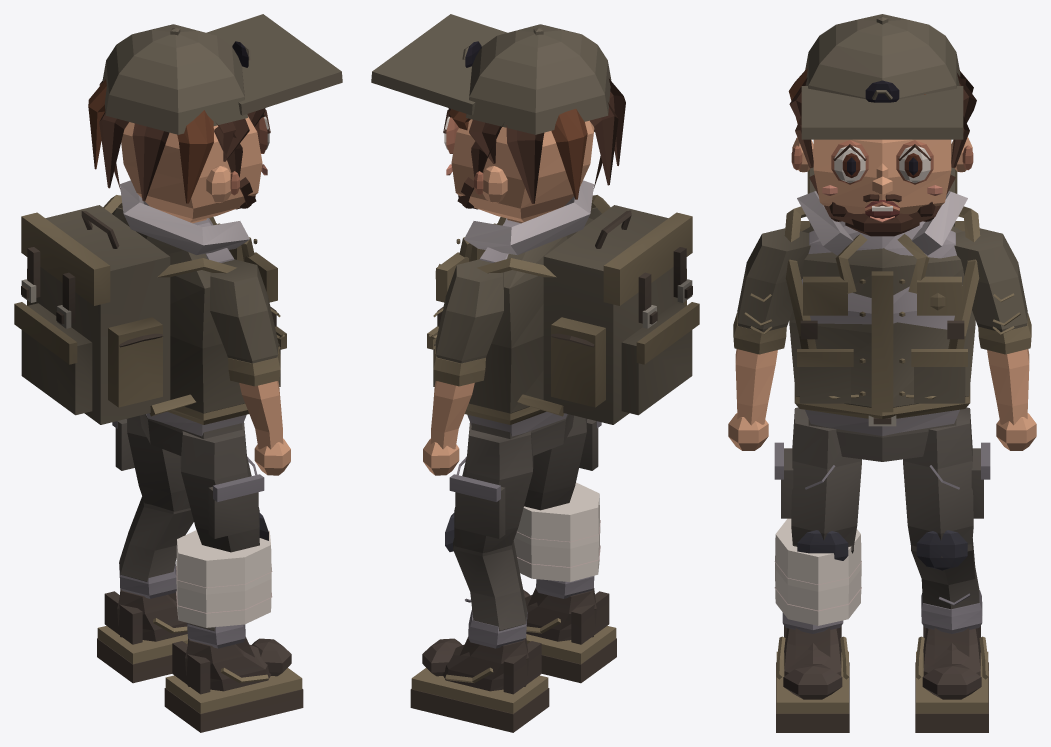
3 renders of one model, left to right at view 1: azimuth 30°, elevation 25°; view 2: azimuth 150°, elevation 25°; view 3: azimuth 270°, elevation 25°, orthographic. The views are drawn at different scales.
Visible parts, largest first — view 1: torso_pal_picketWhite, head_pal_picketWhite, footR_pal_picketWhite, shinR_pal_picketWhite, legR_pal_picketWhite, footL_pal_picketWhite, armR_pal_picketWhite, shinL_pal_picketWhite, legL_pal_picketWhite, foreArmR_pal_picketWhite, hip_pal_picketWhite, handR_pal_picketWhite; view 2: torso_pal_picketWhite, head_pal_picketWhite, footL_pal_picketWhite, legL_pal_picketWhite, shinR_pal_picketWhite, footR_pal_picketWhite, shinL_pal_picketWhite, armL_pal_picketWhite, legR_pal_picketWhite, foreArmL_pal_picketWhite, hip_pal_picketWhite, handL_pal_picketWhite; view 3: torso_pal_picketWhite, head_pal_picketWhite, legR_pal_picketWhite, legL_pal_picketWhite, shinR_pal_picketWhite, footL_pal_picketWhite, footR_pal_picketWhite, shinL_pal_picketWhite, armR_pal_picketWhite, armL_pal_picketWhite, foreArmR_pal_picketWhite, foreArmL_pal_picketWhite (+3 smaller).
Boxes of the visible parts, box(x1,y1,x2,y2) form: torso_pal_picketWhite: box(14, 180, 286, 436); head_pal_picketWhite: box(88, 14, 342, 223); footR_pal_picketWhite: box(164, 637, 303, 732); shinR_pal_picketWhite: box(175, 512, 272, 648); legR_pal_picketWhite: box(180, 422, 264, 552); footL_pal_picketWhite: box(97, 589, 187, 683); armR_pal_picketWhite: box(210, 259, 284, 363); shinL_pal_picketWhite: box(119, 496, 193, 598); legL_pal_picketWhite: box(112, 415, 190, 511); foreArmR_pal_picketWhite: box(228, 345, 283, 449); hip_pal_picketWhite: box(140, 414, 242, 455); handR_pal_picketWhite: box(254, 438, 290, 475); torso_pal_picketWhite: box(427, 180, 699, 436); head_pal_picketWhite: box(371, 14, 625, 223); footL_pal_picketWhite: box(410, 636, 549, 732); legL_pal_picketWhite: box(449, 422, 533, 552); shinR_pal_picketWhite: box(513, 482, 600, 598); footR_pal_picketWhite: box(523, 587, 616, 683); shinL_pal_picketWhite: box(445, 512, 527, 648); armL_pal_picketWhite: box(429, 259, 503, 363); legR_pal_picketWhite: box(524, 415, 601, 510); foreArmL_pal_picketWhite: box(430, 345, 485, 449); hip_pal_picketWhite: box(471, 414, 573, 455); handL_pal_picketWhite: box(423, 438, 459, 475); torso_pal_picketWhite: box(784, 167, 980, 435); head_pal_picketWhite: box(788, 14, 976, 236); legR_pal_picketWhite: box(774, 407, 861, 546); legL_pal_picketWhite: box(903, 407, 990, 546); shinR_pal_picketWhite: box(774, 518, 861, 633); footL_pal_picketWhite: box(915, 626, 988, 732); footR_pal_picketWhite: box(776, 626, 849, 732); shinL_pal_picketWhite: box(911, 530, 982, 633); armR_pal_picketWhite: box(737, 228, 810, 332); armL_pal_picketWhite: box(954, 228, 1027, 332); foreArmR_pal_picketWhite: box(733, 313, 786, 425); foreArmL_pal_picketWhite: box(978, 313, 1031, 425).
Bounding box in the file's own units: 0.6026 × 1.45 × 0.598.
